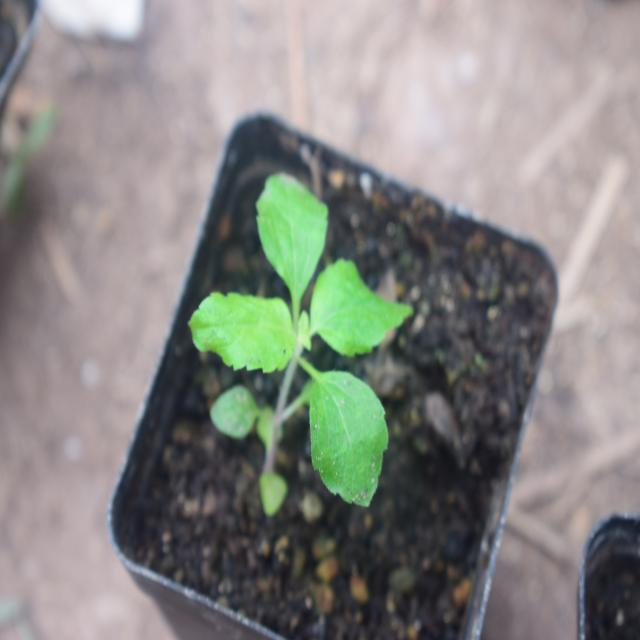billygoat_weed: (180, 168, 406, 507)
